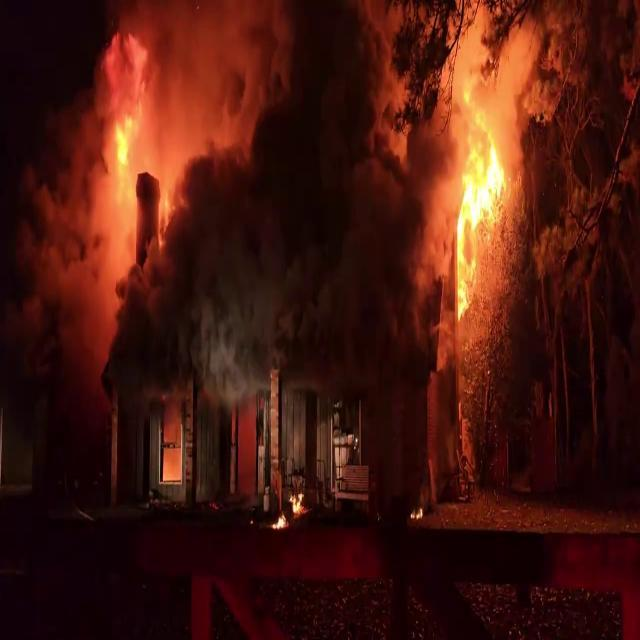Fire: (449, 92, 511, 316)
Smoke: (276, 0, 459, 492), (22, 0, 188, 333)
